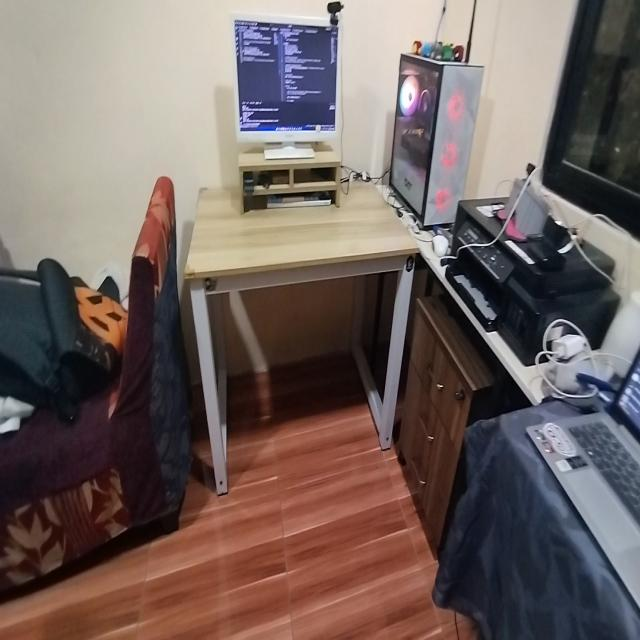table: (183, 171, 422, 465)
